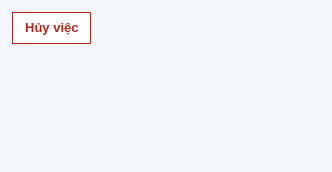
Scenario: ConfirmInline › bấm thì hỏi tại chỗ, tiêu điểm vào Hủy; Hủy không làm gì và trả tiêu điểm về nút
This screenshot has width=332, height=172.
Later steps or results of the test are not shown.
Click the button "Hủy việc" at (52, 28), box [12,12,92,44]
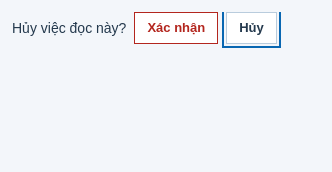
expect the element "Hủy việc đọc này?" is shown: met, box [12,12,277,44]
